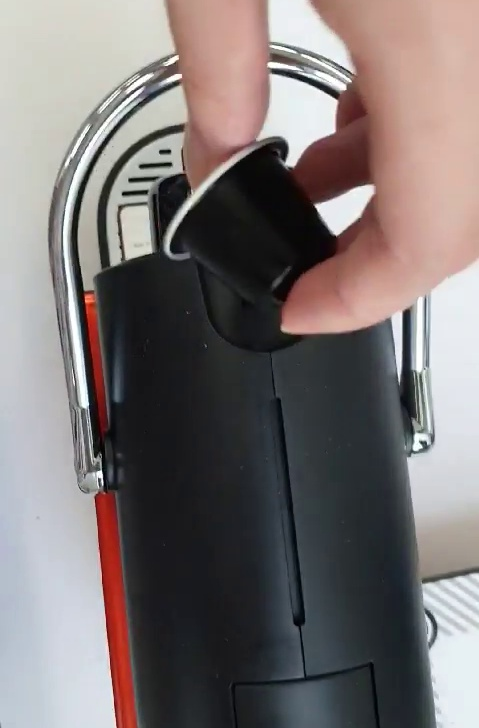capsule_10: (167, 135, 343, 334)
